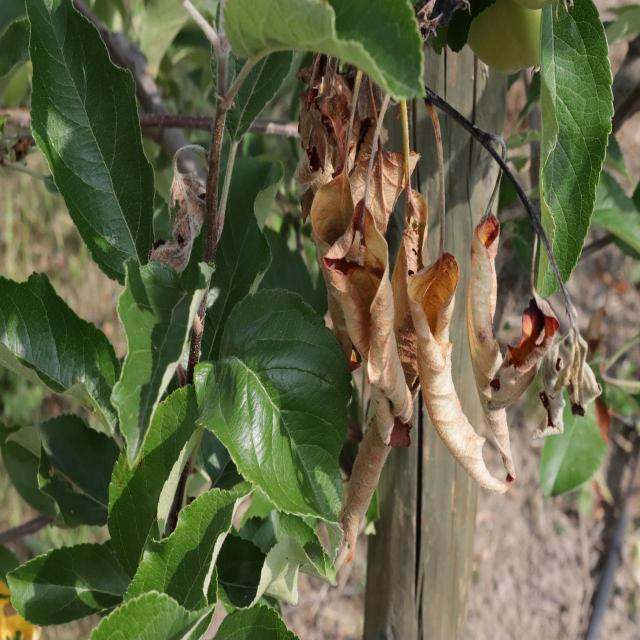-FireBlight-: (272, 39, 627, 552)
